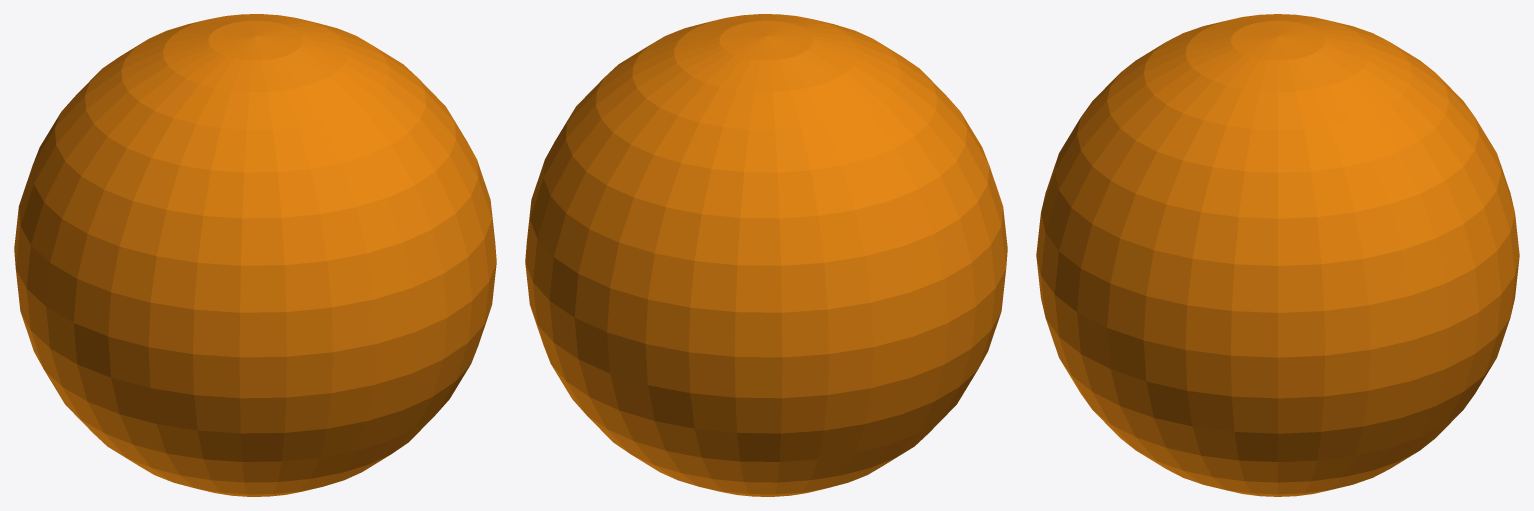
Rendered from blob-cloud.glb.
3 views of the same model, side by side, from view 1: azimuth 30°, elevation 25°; view 2: azimuth 150°, elevation 25°; view 3: azimuth 270°, elevation 25° (orthographic).
Visible parts, largest first — view 1: Sphere; view 2: Sphere; view 3: Sphere.
Part boxes in pixels (left/top/right/bottom): Sphere: left=14, top=14, right=496, bottom=496; Sphere: left=525, top=14, right=1007, bottom=496; Sphere: left=1036, top=14, right=1519, bottom=496.
Size of the model in its own units: 2 by 2 by 2.
